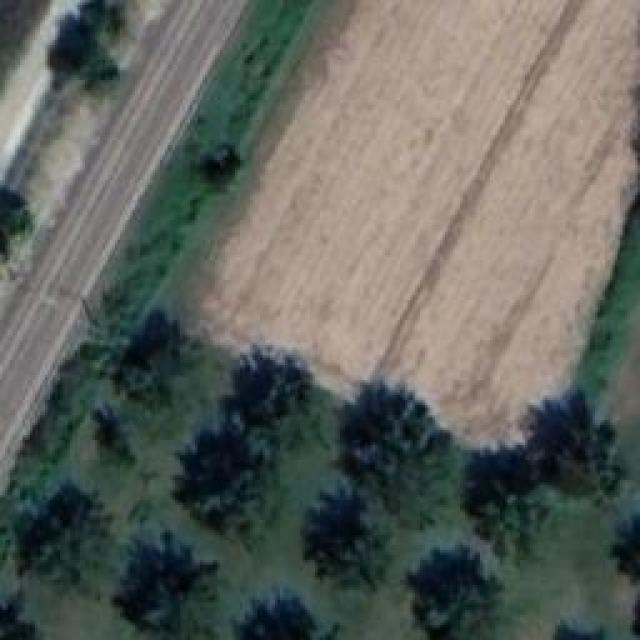Tree: (345, 385, 465, 523), (108, 310, 208, 445), (110, 532, 228, 640), (0, 482, 112, 595), (170, 438, 270, 553), (300, 488, 400, 593), (408, 542, 503, 640), (225, 358, 325, 451), (535, 393, 625, 496), (50, 0, 138, 95), (485, 473, 565, 553), (223, 595, 343, 640), (190, 140, 245, 193), (93, 408, 136, 471), (0, 188, 30, 258), (0, 595, 45, 640), (613, 510, 638, 578), (553, 625, 618, 640)
